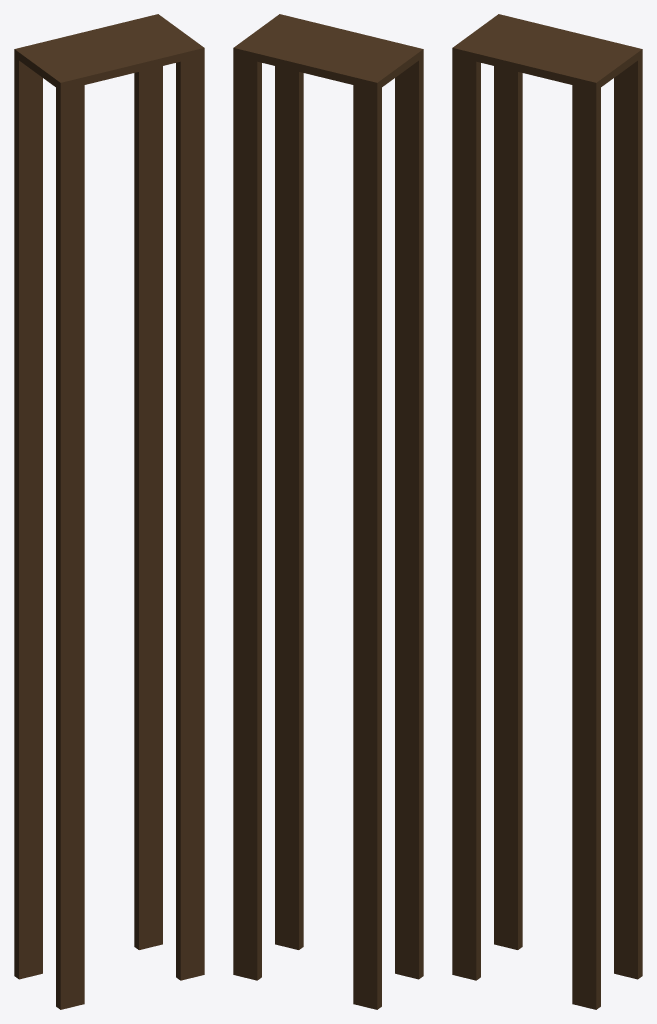
The model's file is Steigers.fbx.
3 views of the same model, side by side, from view 1: azimuth 30°, elevation 25°; view 2: azimuth 150°, elevation 25°; view 3: azimuth 330°, elevation 25° (orthographic).
Parts seen in each view (by area): view 1: Leg_lowpoly, low poly; view 2: Leg_lowpoly, low poly; view 3: Leg_lowpoly, low poly.
Part boxes in pixels (x1=…): Leg_lowpoly: x1=14, y1=56, x2=204, y2=1009; low poly: x1=14, y1=14, x2=204, y2=90; Leg_lowpoly: x1=233, y1=56, x2=423, y2=1009; low poly: x1=233, y1=14, x2=423, y2=90; Leg_lowpoly: x1=452, y1=56, x2=642, y2=1009; low poly: x1=452, y1=14, x2=642, y2=90.
Size of the model in its own units: 379 by 2333 by 211.
